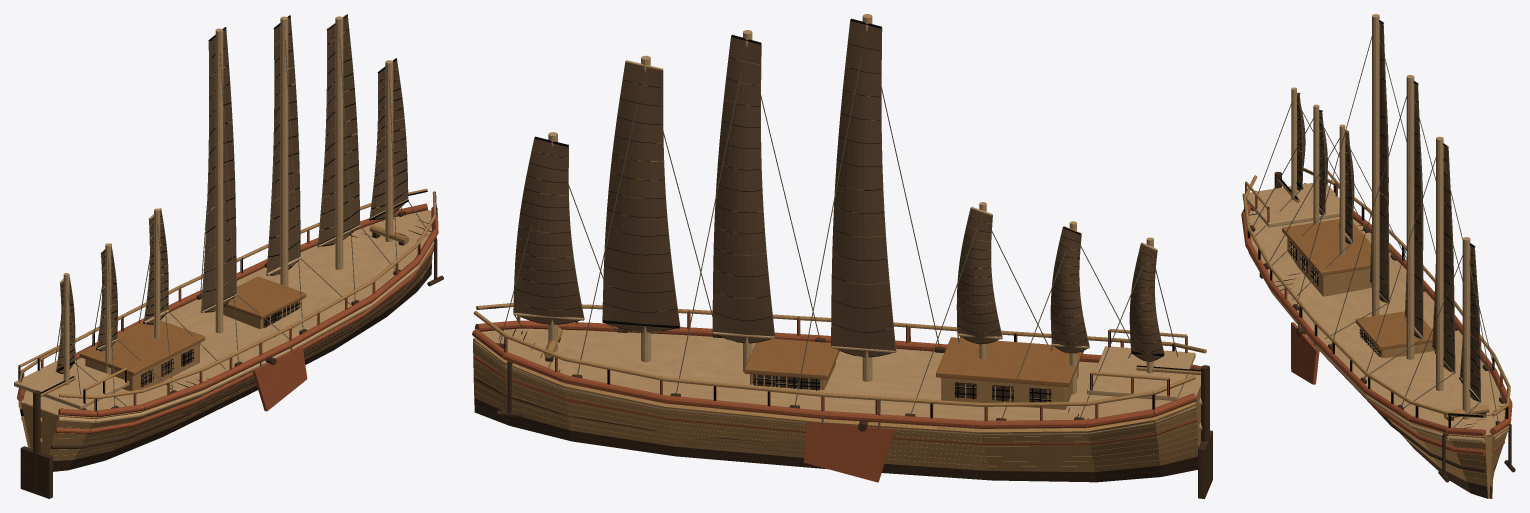
Rendered from shipModelData-songShenzhou.glb.
3 views of the same model, side by side, from view 1: azimuth 30°, elevation 25°; view 2: azimuth 150°, elevation 25°; view 3: azimuth 270°, elevation 25° (orthographic). The views are drawn at different scales.
Parts seen in each view (by area): view 1: long low upper deck, dark narrow woven sail, connected amber hull planking.004, continuous shaped rubbing strake.008, connected amber hull planking, continuous sail edge rope, low vermilion cabin roof; view 2: dark narrow woven sail, connected amber hull planking.004, long low upper deck, continuous shaped rubbing strake.008, connected amber hull planking, low vermilion cabin roof, continuous sail edge rope; view 3: long low upper deck, dark narrow woven sail, connected amber hull planking.004, continuous shaped rubbing strake.008, continuous sail edge rope, low vermilion cabin roof, connected amber hull planking.
Part boxes in pixels (x1,y1,x2,y2): long low upper deck: (14, 14, 434, 423); dark narrow woven sail: (57, 16, 407, 372); connected amber hull planking.004: (18, 28, 436, 460); continuous shaped rubbing strake.008: (17, 203, 438, 433); connected amber hull planking: (20, 211, 443, 498); continuous sail edge rope: (55, 16, 428, 409); low vermilion cabin roof: (79, 276, 306, 375); dark narrow woven sail: (513, 21, 1163, 361); connected amber hull planking.004: (473, 43, 1206, 471); long low upper deck: (473, 14, 1200, 435); continuous shaped rubbing strake.008: (472, 311, 1201, 482); connected amber hull planking: (474, 328, 1212, 498); low vermilion cabin roof: (744, 337, 1083, 386); continuous sail edge rope: (499, 19, 1177, 429); long low upper deck: (1242, 14, 1508, 442); dark narrow woven sail: (1297, 22, 1480, 400); connected amber hull planking.004: (1243, 23, 1510, 498); continuous shaped rubbing strake.008: (1241, 174, 1512, 455); continuous sail edge rope: (1252, 23, 1501, 427); low vermilion cabin roof: (1282, 219, 1432, 350); connected amber hull planking: (1248, 171, 1515, 498).
Bounding box in the file's own units: 15.51 × 10.77 × 7.18.
Materials: 8 (5 with a texture image).
